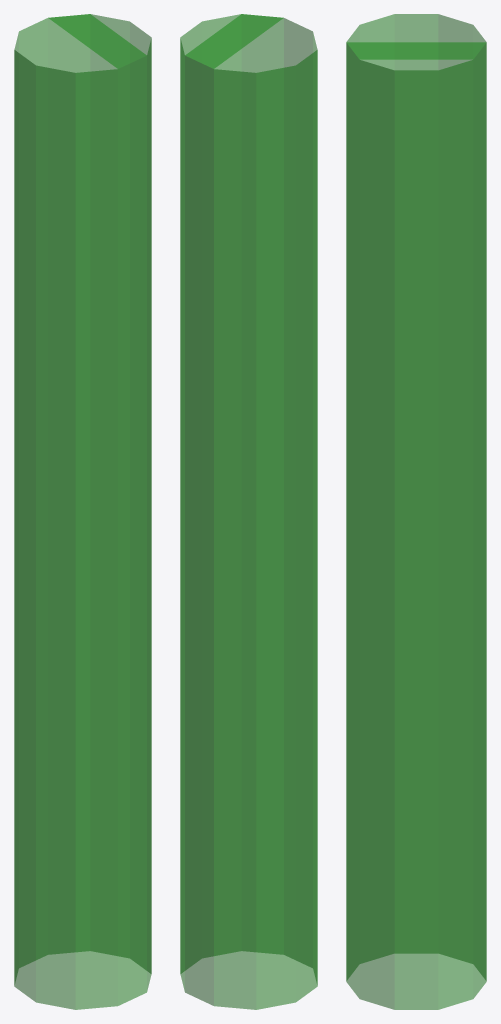
Rendered from D11_wall03.obj.
The picture shows the model from 3 angles, left to right: view 1: azimuth 30°, elevation 25°; view 2: azimuth 150°, elevation 25°; view 3: azimuth 270°, elevation 25°; orthographic projection.
Size of the model in its own units: 7.61 by 59 by 8.
